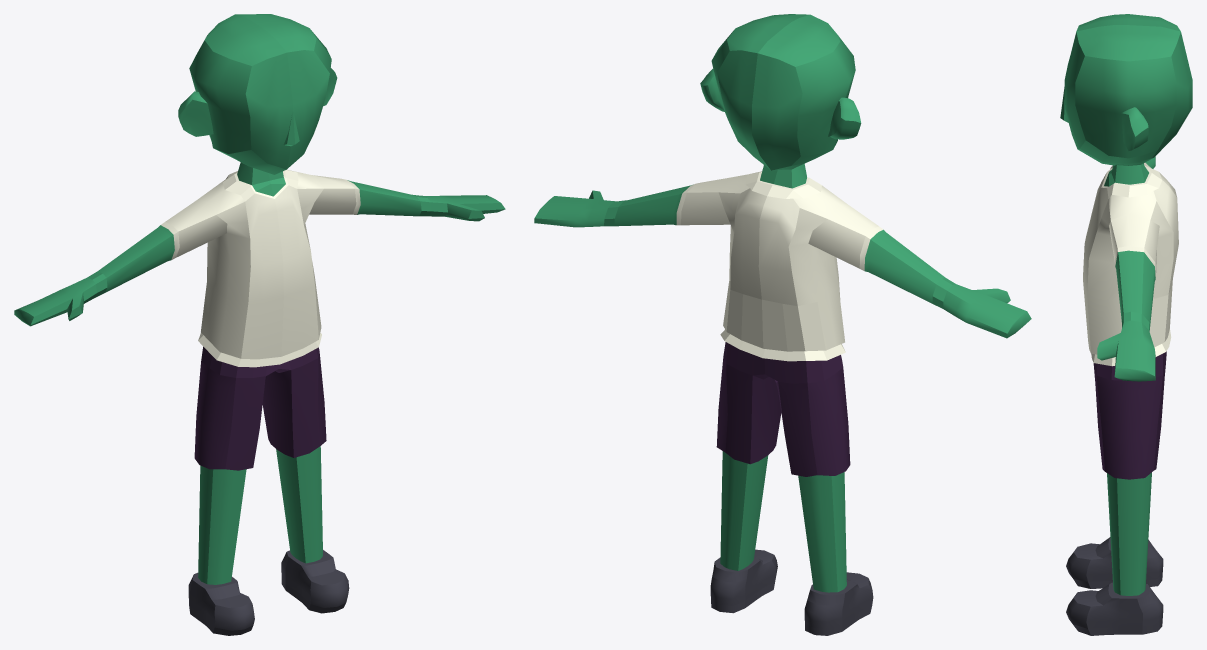
File: BasicEnemy_Model.fbx
The picture shows the model from 3 angles, left to right: view 1: azimuth 30°, elevation 25°; view 2: azimuth 150°, elevation 25°; view 3: azimuth 270°, elevation 25°; orthographic projection.
Visible parts, largest first — view 1: polySurface8; view 2: polySurface8; view 3: polySurface8.
Boxes of the visible parts, <box> form: polySurface8: <box>14,14,505,635</box>; polySurface8: <box>534,14,1031,635</box>; polySurface8: <box>1060,14,1192,635</box>.
Bounding box in the file's own units: 2.63 × 3.05 × 0.633.
